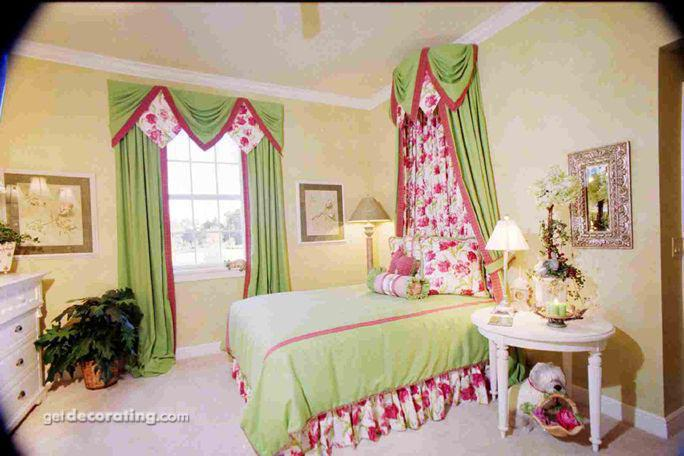Cama: (238, 241, 476, 435)
Matera: (50, 295, 147, 399)
Ventana: (148, 122, 258, 283)
